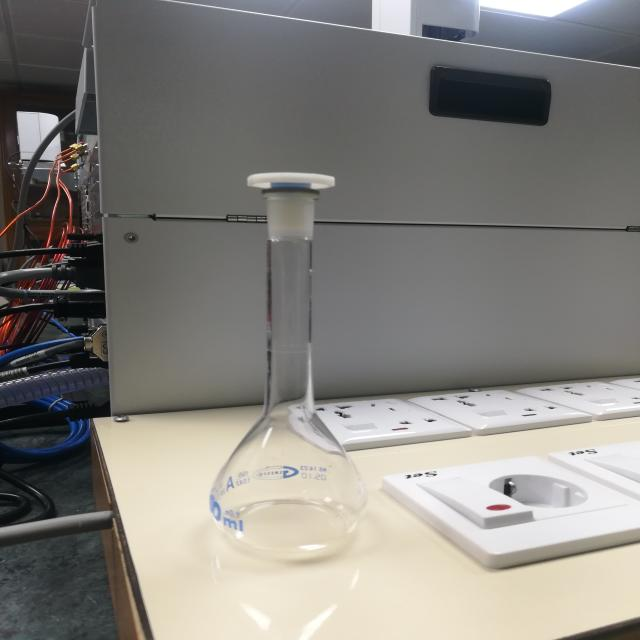Volumetric_Flask: (188, 94, 421, 572)
